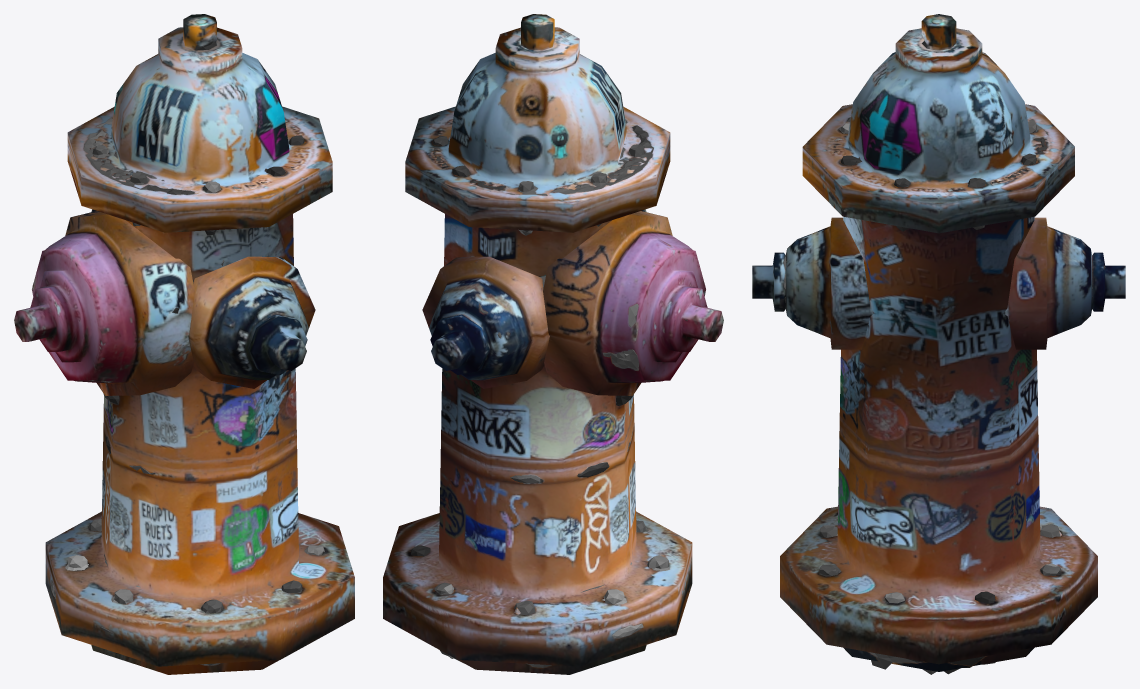
Rendered from Hydrant.glb.
The picture shows the model from 3 angles, left to right: view 1: azimuth 30°, elevation 25°; view 2: azimuth 150°, elevation 25°; view 3: azimuth 270°, elevation 25°; orthographic projection.
Visible parts, largest first — view 1: Hydrant_low, Hydrant2; view 2: Hydrant_low, Hydrant2; view 3: Hydrant_low, Hydrant2.
Part boxes in pixels (x1=…): Hydrant_low: x1=14, y1=14, x2=354, y2=674; Hydrant2: x1=51, y1=41, x2=324, y2=665; Hydrant_low: x1=383, y1=14, x2=723, y2=674; Hydrant2: x1=411, y1=121, x2=687, y2=667; Hydrant_low: x1=752, y1=14, x2=1125, y2=671; Hydrant2: x1=783, y1=41, x2=1105, y2=674.
Size of the model in its own units: 0.4545 by 0.8392 by 0.4683.
Materials: 2 (2 with a texture image).
